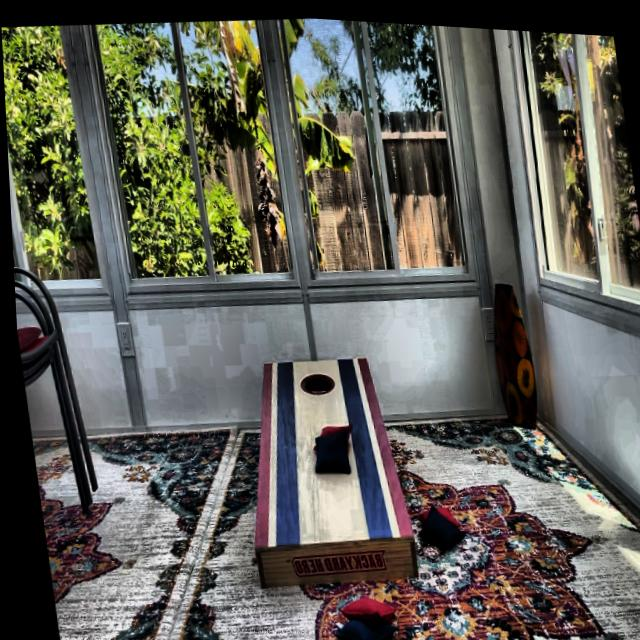blue-bean-bag: (324, 608, 395, 640), (410, 498, 459, 544), (306, 425, 348, 473)
board: (247, 349, 394, 547)
hole: (294, 366, 333, 394)
red-bean-bag: (328, 586, 392, 620), (304, 418, 349, 452), (410, 496, 454, 525)
